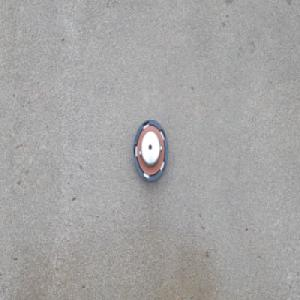FuelCap: (135, 118, 172, 184)
